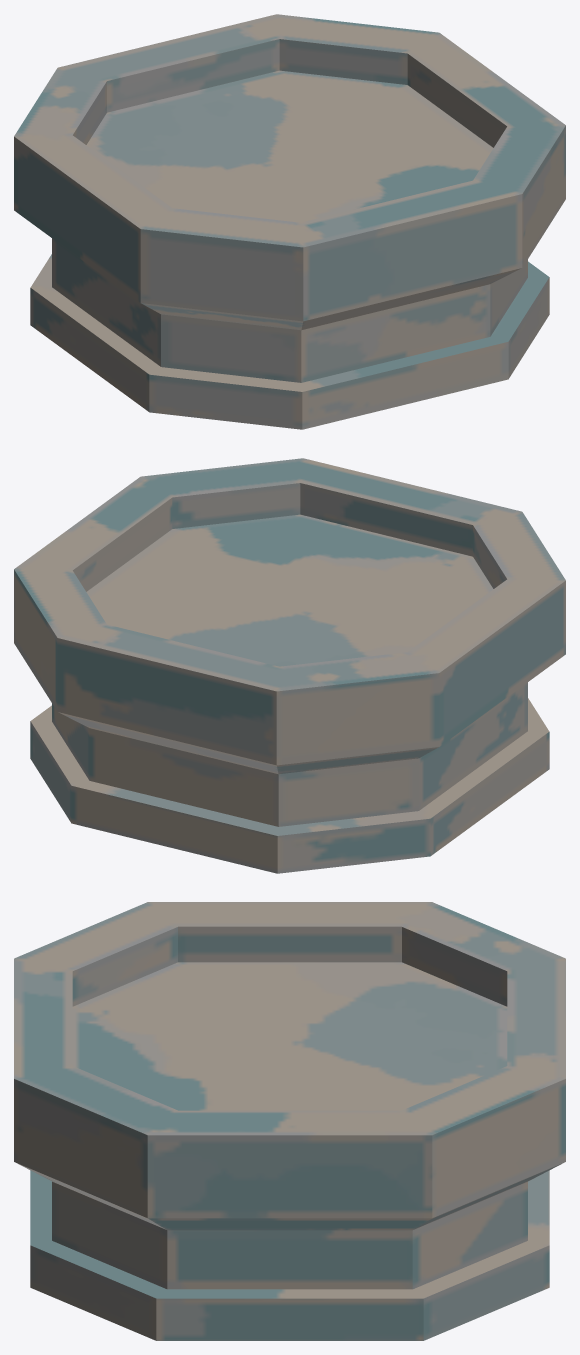
Rendered from FIRE.fbx.
3 views of the same model, one above another, from view 1: azimuth 30°, elevation 25°; view 2: azimuth 150°, elevation 25°; view 3: azimuth 270°, elevation 25° (orthographic). The views are drawn at different scales.
Visible parts, largest first — view 1: fire_uv; view 2: fire_uv; view 3: fire_uv.
Boxes of the visible parts, box(x1,y1,x2,y2) form: fire_uv: box(14, 14, 565, 429); fire_uv: box(14, 458, 565, 873); fire_uv: box(14, 902, 565, 1340).
Bounding box in the file's own units: 164 × 69.91 × 164.
1 material, 1 textured.
